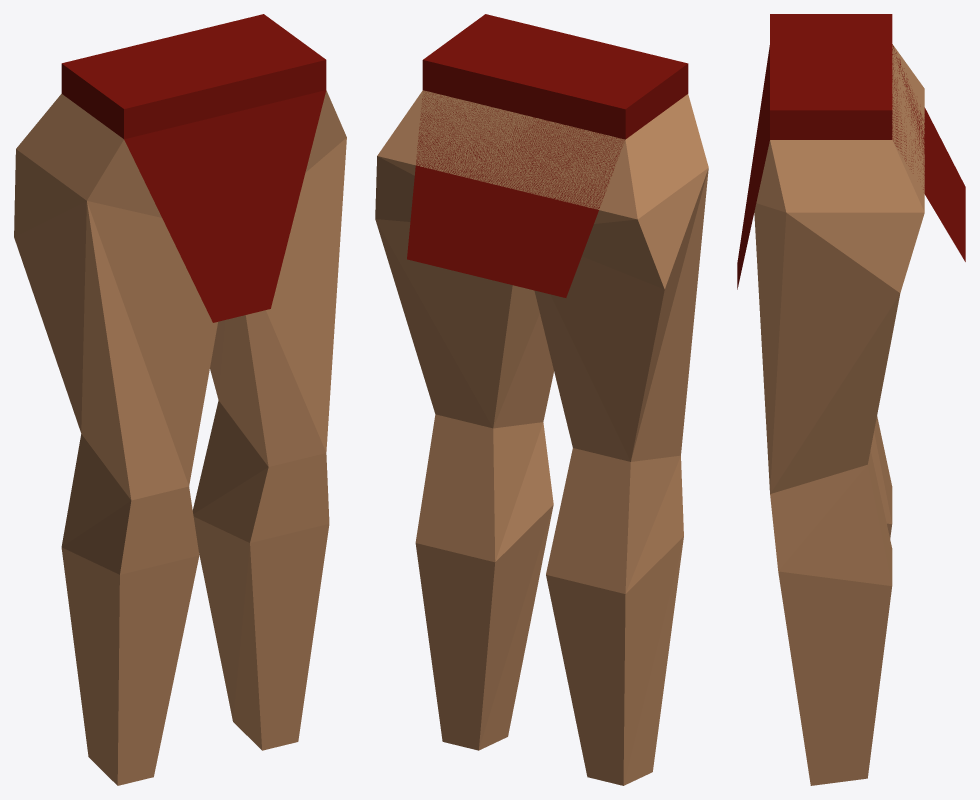
File: model_443_npc.obj
3 renders of one model, left to right at view 1: azimuth 30°, elevation 25°; view 2: azimuth 150°, elevation 25°; view 3: azimuth 270°, elevation 25°, orthographic. The views are drawn at different scales.
Parts seen in each view (by area): view 1: 443; view 2: 443; view 3: 443.
Part boxes in pixels (x1,y1,x2,y2): 443: (14,14,346,785); 443: (375,14,708,785); 443: (737,14,965,785).
Bounding box in the file's own units: 40 × 92 × 28.
